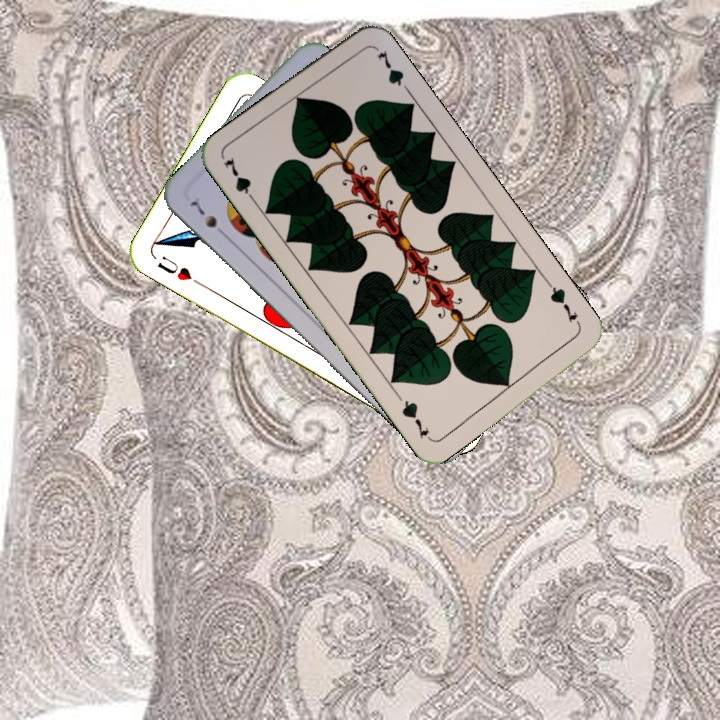G7: (219, 153, 260, 207), (544, 278, 584, 330)
HU: (153, 252, 204, 288)
S7: (185, 196, 230, 241)
